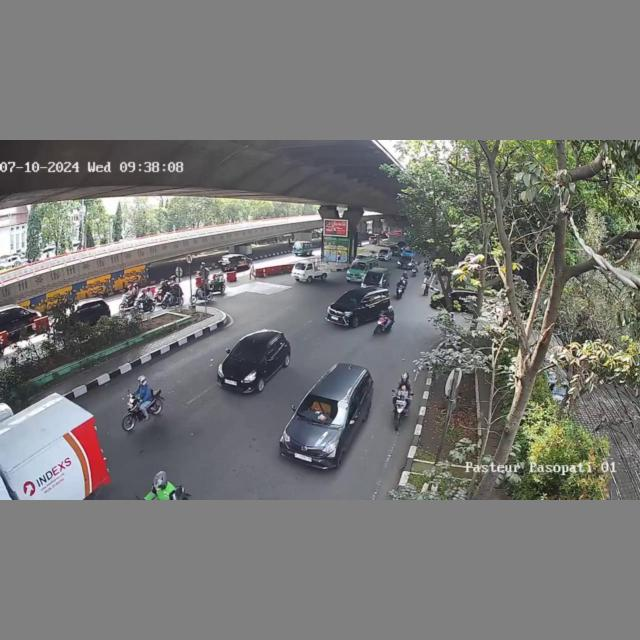windshield: (298, 394, 352, 429), (230, 342, 266, 362), (335, 294, 363, 308), (352, 263, 365, 270)
